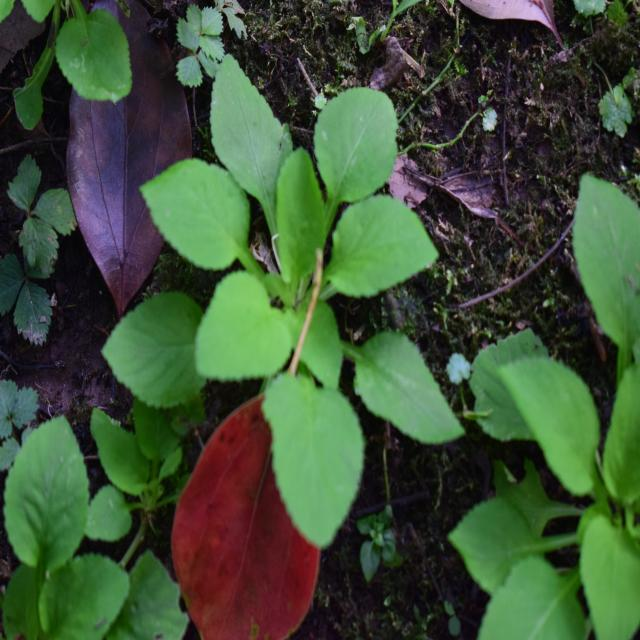Viola: (190, 86, 459, 517)
